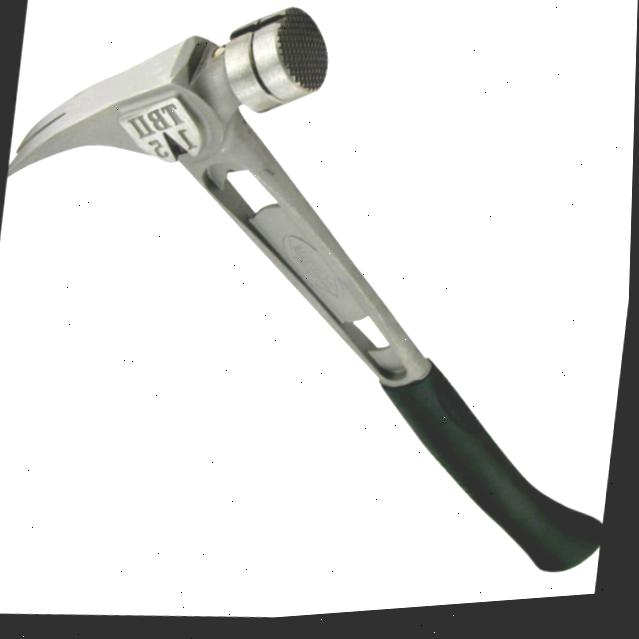hammer: (0, 0, 639, 627)
